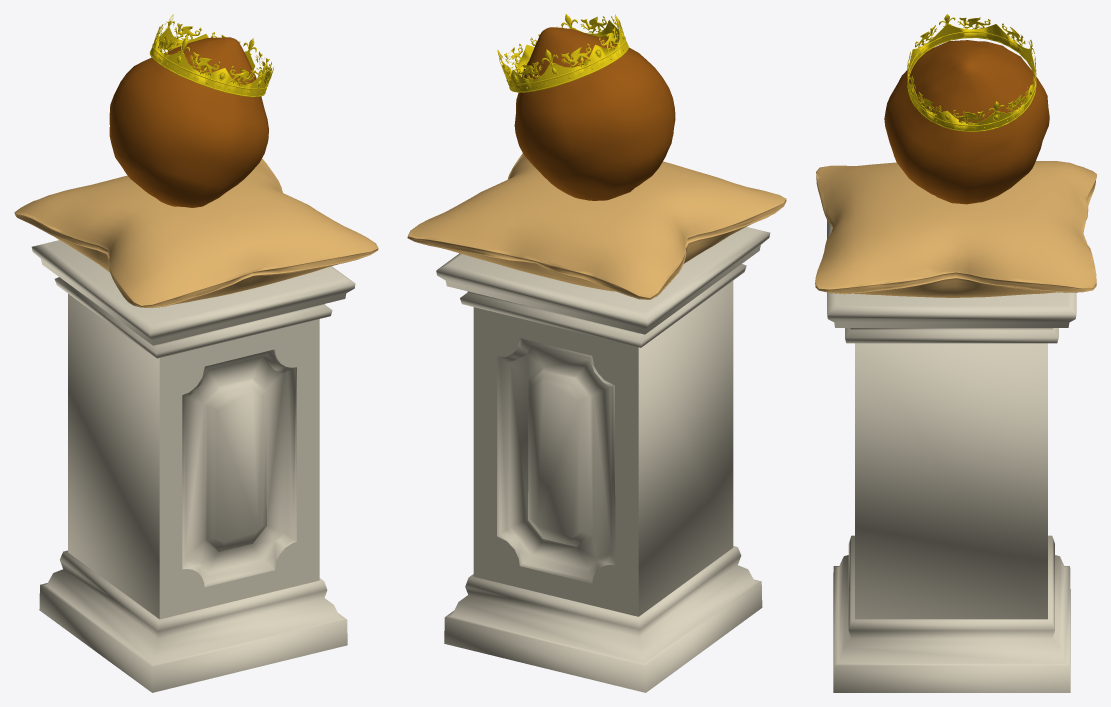
File: trophy_designer.gltf
3 renders of one model, left to right at view 1: azimuth 30°, elevation 25°; view 2: azimuth 150°, elevation 25°; view 3: azimuth 270°, elevation 25°, orthographic. The views are drawn at different scales.
Parts seen in each view (by area): view 1: 001_Pedestal_low_poly, pillow, hazelnut.001, Crown; view 2: 001_Pedestal_low_poly, pillow, hazelnut.001, Crown; view 3: 001_Pedestal_low_poly, pillow, hazelnut.001, Crown.
Part boxes in pixels (x1=…): 001_Pedestal_low_poly: x1=31, y1=240, x2=355, y2=692; pillow: x1=14, y1=158, x2=378, y2=307; hazelnut.001: x1=109, y1=37, x2=268, y2=207; Crown: x1=149, y1=14, x2=274, y2=97; 001_Pedestal_low_poly: x1=436, y1=227, x2=770, y2=692; pillow: x1=407, y1=153, x2=786, y2=299; hazelnut.001: x1=514, y1=27, x2=675, y2=200; Crown: x1=497, y1=14, x2=628, y2=92; 001_Pedestal_low_poly: x1=827, y1=220, x2=1076, y2=692; pillow: x1=815, y1=161, x2=1096, y2=297; hazelnut.001: x1=884, y1=40, x2=1049, y2=204; Crown: x1=907, y1=14, x2=1036, y2=131.
Size of the model in its own units: 2.55 by 5.96 by 2.44.
